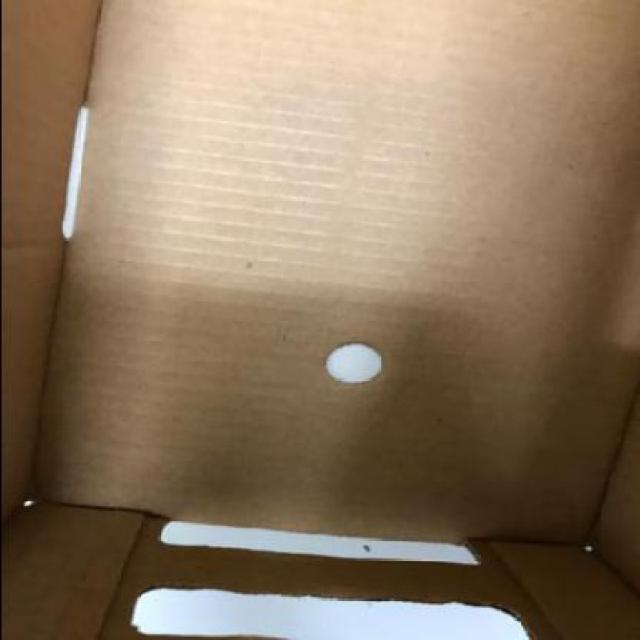CARDBOARD: (1, 0, 638, 640), (34, 0, 640, 548)
